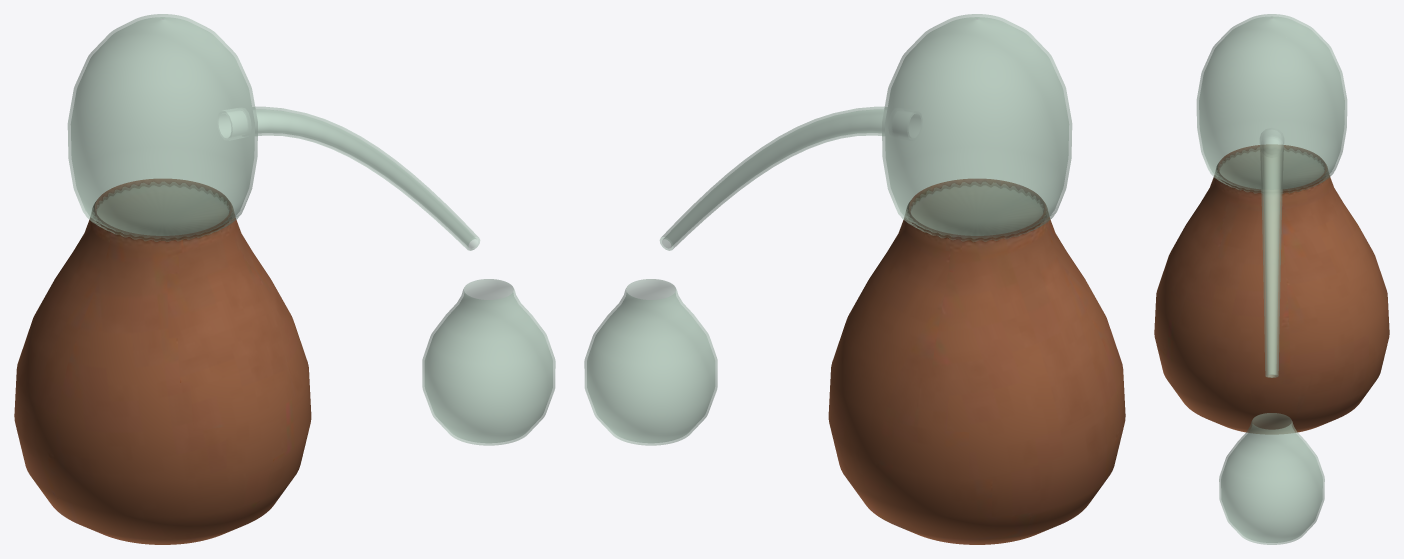
Rendered from alembic.glb.
3 renders of one model, left to right at view 1: azimuth 30°, elevation 25°; view 2: azimuth 150°, elevation 25°; view 3: azimuth 270°, elevation 25°, orthographic. The views are drawn at different scales.
Visible parts, largest first — view 1: alembic, ambix, receiver, spout; view 2: alembic, ambix, receiver, spout; view 3: alembic, ambix, receiver, spout.
Boxes of the visible parts, x1=… form: alembic: x1=14, y1=178, x2=311, y2=544; ambix: x1=67, y1=14, x2=257, y2=241; receiver: x1=422, y1=279, x2=555, y2=445; spout: x1=217, y1=106, x2=480, y2=250; alembic: x1=828, y1=178, x2=1125, y2=544; ambix: x1=882, y1=14, x2=1072, y2=241; receiver: x1=584, y1=279, x2=717, y2=445; spout: x1=659, y1=106, x2=922, y2=250; alembic: x1=1154, y1=145, x2=1389, y2=433; ambix: x1=1196, y1=14, x2=1347, y2=193; receiver: x1=1219, y1=413, x2=1324, y2=544; spout: x1=1260, y1=128, x2=1283, y2=377.
Size of the model in its own units: 0.3301 by 0.3068 by 0.1658.
Materials: 4 (1 with a texture image).
